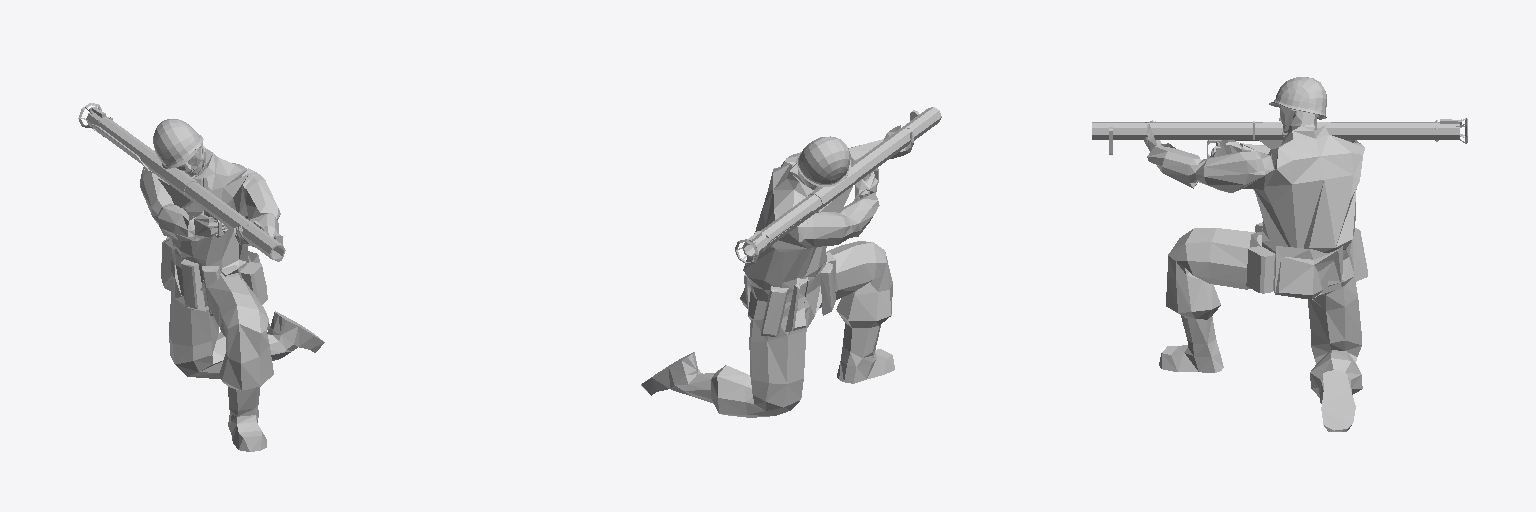
Rendered from bazooka.obj.
The picture shows the model from 3 angles: view 1: azimuth 30°, elevation 25°; view 2: azimuth 150°, elevation 25°; view 3: azimuth 270°, elevation 25°; orthographic projection.
Parts seen in each view (by area): view 1: Object.004_Object.017; view 2: Object.004_Object.017; view 3: Object.004_Object.017.
Part boxes in pixels (x1,y1,x2,y2): Object.004_Object.017: (78,103,324,451); Object.004_Object.017: (641,107,941,417); Object.004_Object.017: (1092,77,1467,431).
Size of the model in its own units: 0.9093 by 1.31 by 1.56.